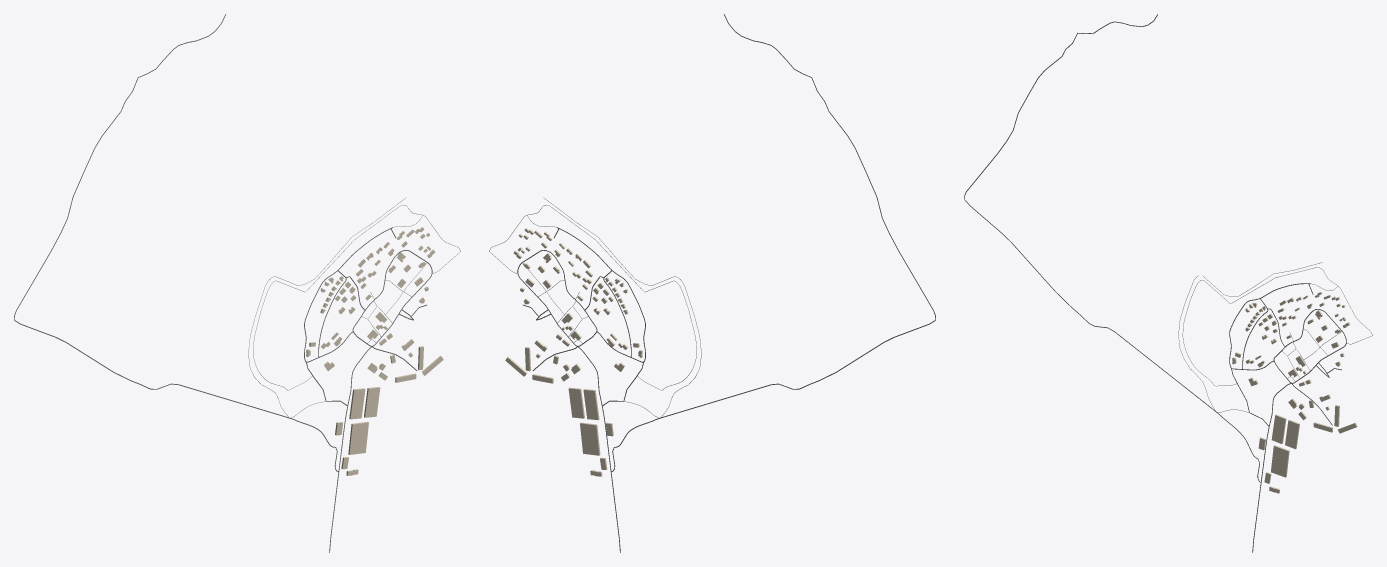
The model's file is historic-palestine-02_19_3439_3137.glb.
The picture shows the model from 3 angles, left to right: view 1: azimuth 30°, elevation 25°; view 2: azimuth 150°, elevation 25°; view 3: azimuth 330°, elevation 25°; orthographic projection. The views are drawn at different scales.
Parts seen in each view (by area): view 1: Road, Building_.065; view 2: Road, Building_.065; view 3: Road.
Part boxes in pixels (bbox=[...]): Road: bbox=[14, 14, 338, 471]; Building_.065: bbox=[348, 421, 368, 454]; Road: bbox=[611, 14, 935, 471]; Building_.065: bbox=[580, 422, 600, 455]; Road: bbox=[964, 14, 1260, 482].
Size of the model in its own units: 1749 by 2111 by 8.7.
